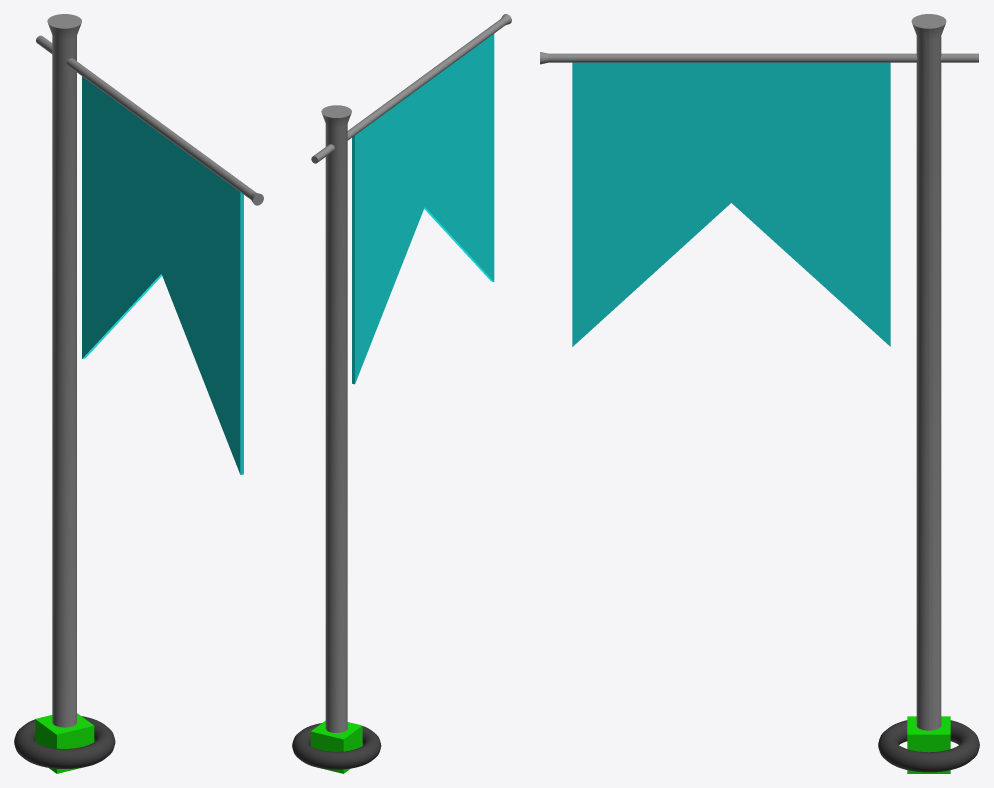
File: flag.gltf
3 views of the same model, side by side, from view 1: azimuth 30°, elevation 25°; view 2: azimuth 150°, elevation 25°; view 3: azimuth 270°, elevation 25° (orthographic). The views are drawn at different scales.
Visible parts, largest first — view 1: flag, crossbeam, Torus, Cube; view 2: flag, crossbeam, Torus, Cube; view 3: flag, crossbeam, Torus, Cube.
Part boxes in pixels (x1,y1,x2,y2): flag: [82, 76, 243, 474]; crossbeam: [36, 14, 263, 727]; Torus: [14, 716, 115, 768]; Cube: [35, 713, 94, 773]; flag: [352, 34, 494, 384]; crossbeam: [311, 14, 511, 732]; Torus: [292, 723, 381, 769]; Cube: [310, 721, 362, 773]; flag: [572, 62, 890, 346]; crossbeam: [540, 14, 978, 730]; Torus: [878, 720, 979, 772]; Cube: [907, 716, 950, 773].
Size of the model in its own units: 0.6397 by 5.15 by 2.76.
